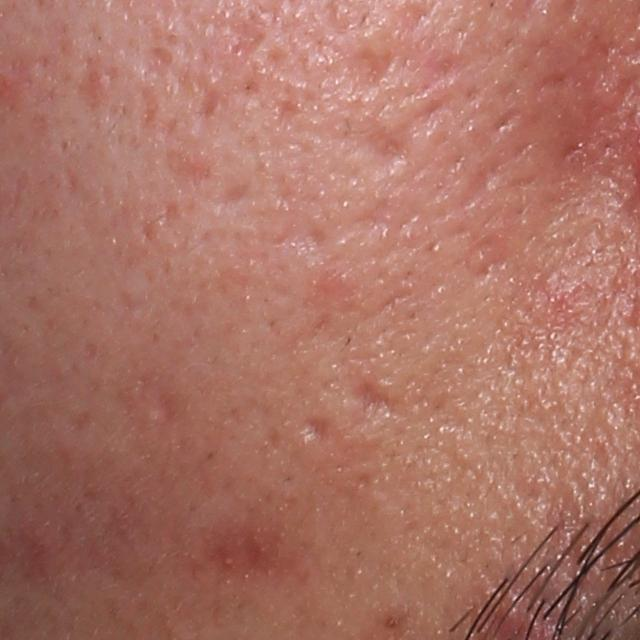atrophic_scar: (374, 34, 456, 103), (272, 180, 324, 259), (340, 373, 398, 425), (365, 124, 413, 177), (221, 15, 269, 63), (351, 46, 394, 93), (204, 176, 252, 210), (298, 413, 338, 448), (141, 45, 176, 81), (134, 84, 158, 135), (201, 83, 223, 122), (152, 392, 179, 423), (160, 196, 183, 228)
